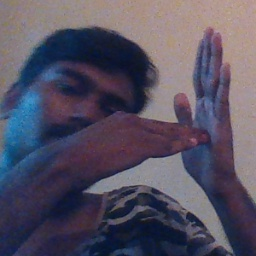Z: (135, 25, 236, 181)
